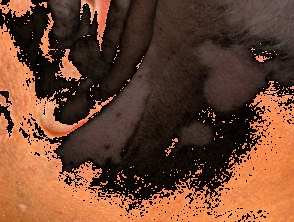vitiligo: (46, 45, 201, 200), (172, 2, 294, 116), (176, 119, 213, 148)
